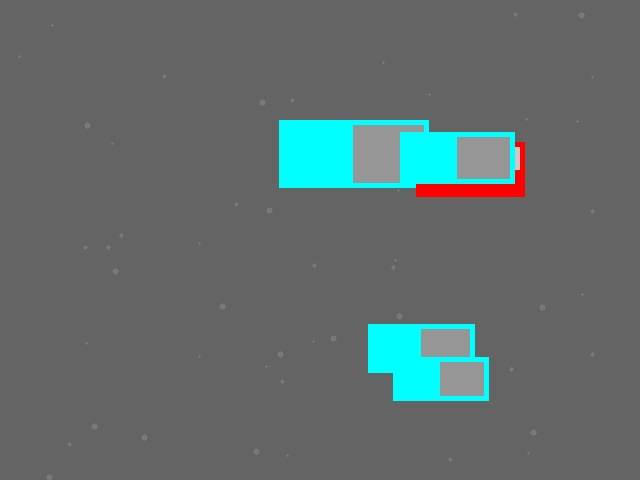car: (416, 142, 524, 196)
truck: (279, 120, 428, 187), (400, 132, 514, 183), (368, 324, 474, 372), (393, 357, 488, 400)
